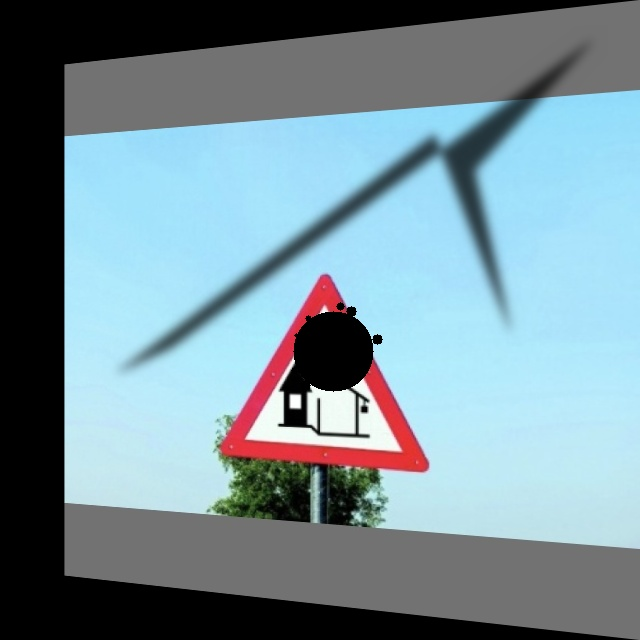Barrier_Ahead: (210, 262, 448, 481)
